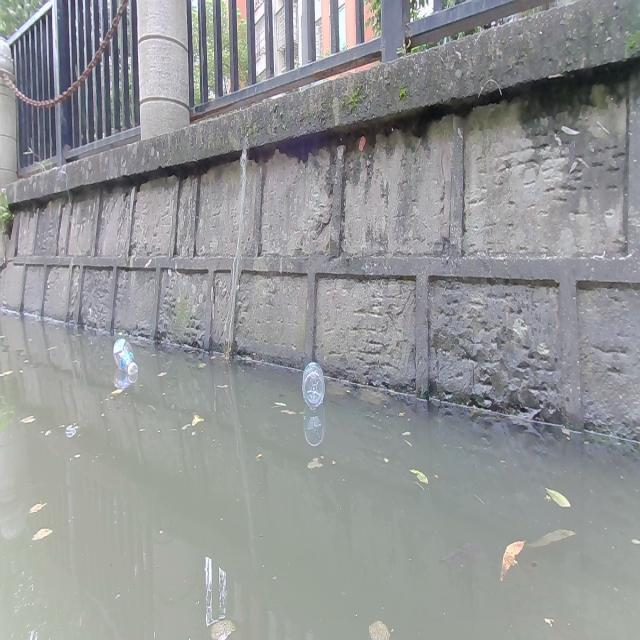bottle: (301, 359, 325, 408), (112, 337, 137, 376)
